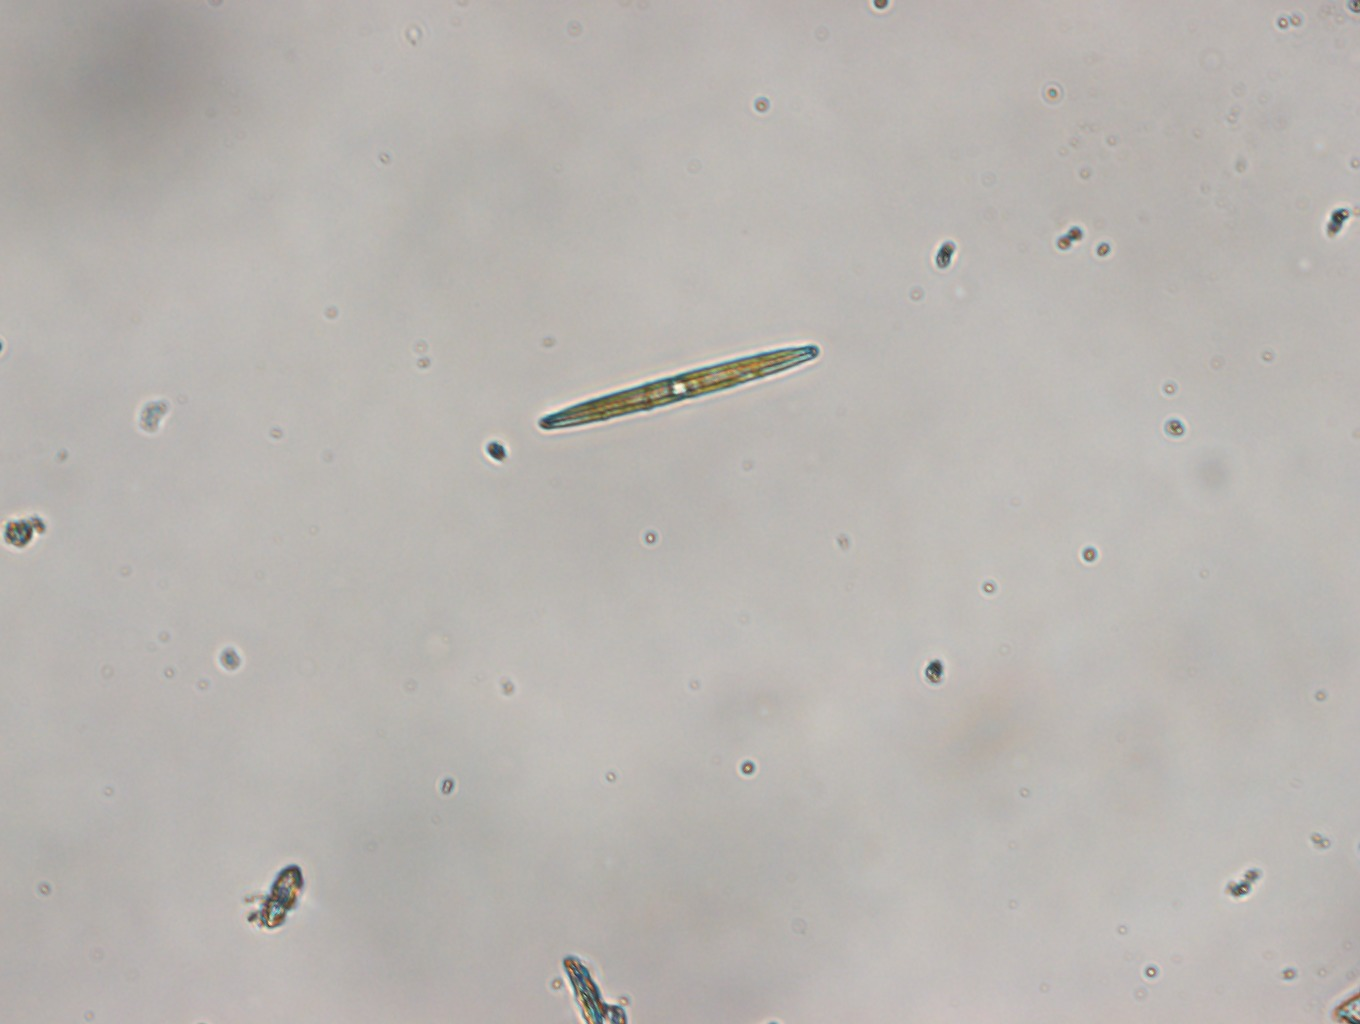navicula: (536, 343, 822, 433)
